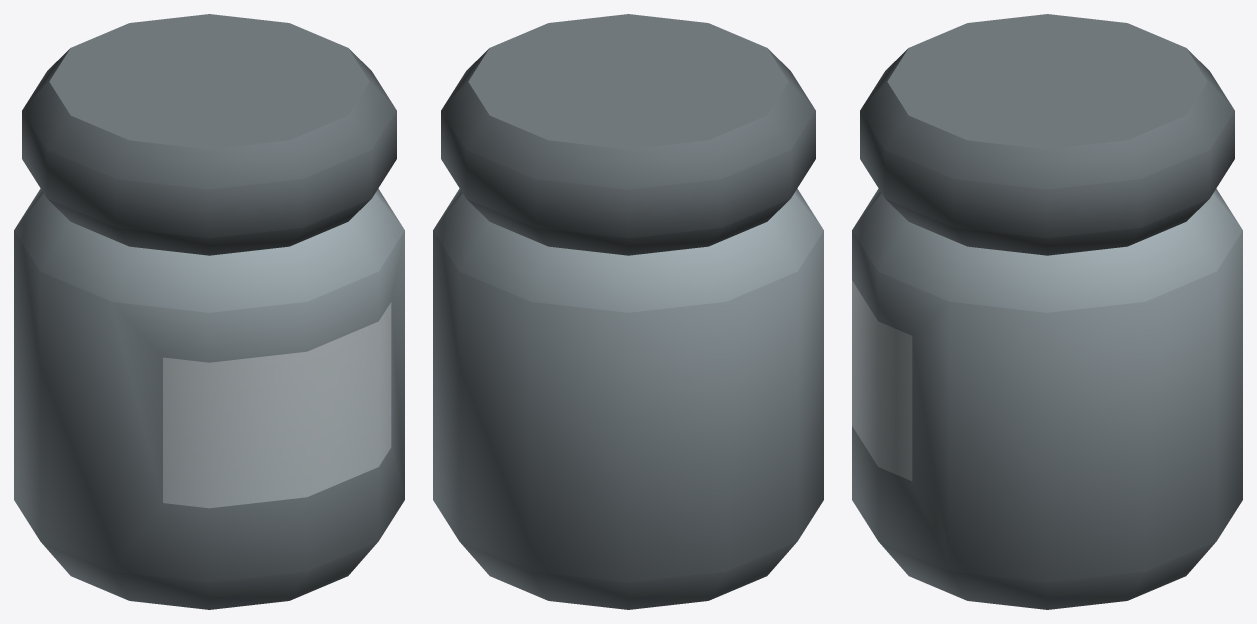
File: jar_B_medium.glb
3 views of the same model, side by side, from view 1: azimuth 30°, elevation 25°; view 2: azimuth 150°, elevation 25°; view 3: azimuth 270°, elevation 25° (orthographic).
Visible parts, largest first — view 1: jar_B_medium; view 2: jar_B_medium; view 3: jar_B_medium.
Part boxes in pixels (x1,y1,x2,y2): jar_B_medium: (14, 14, 404, 609); jar_B_medium: (433, 14, 823, 609); jar_B_medium: (852, 14, 1242, 609).
Size of the model in its own units: 0.5 by 0.65 by 0.5.
Materials: 1 (1 with a texture image).
